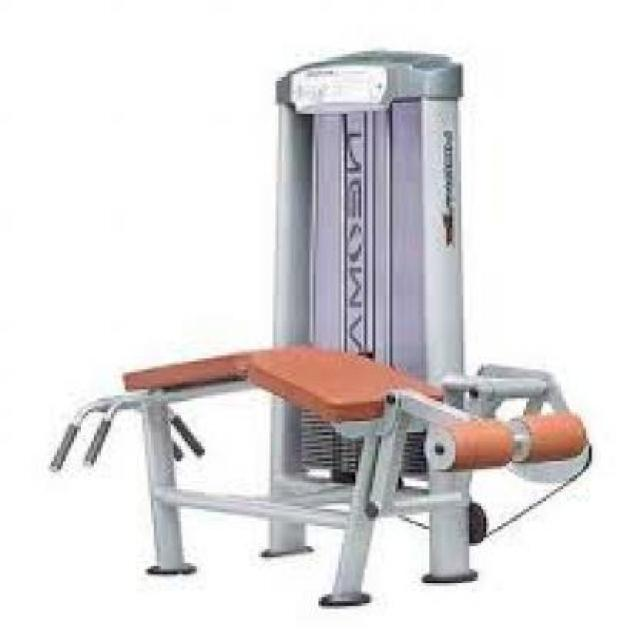reg curl machine: (43, 38, 599, 608)
